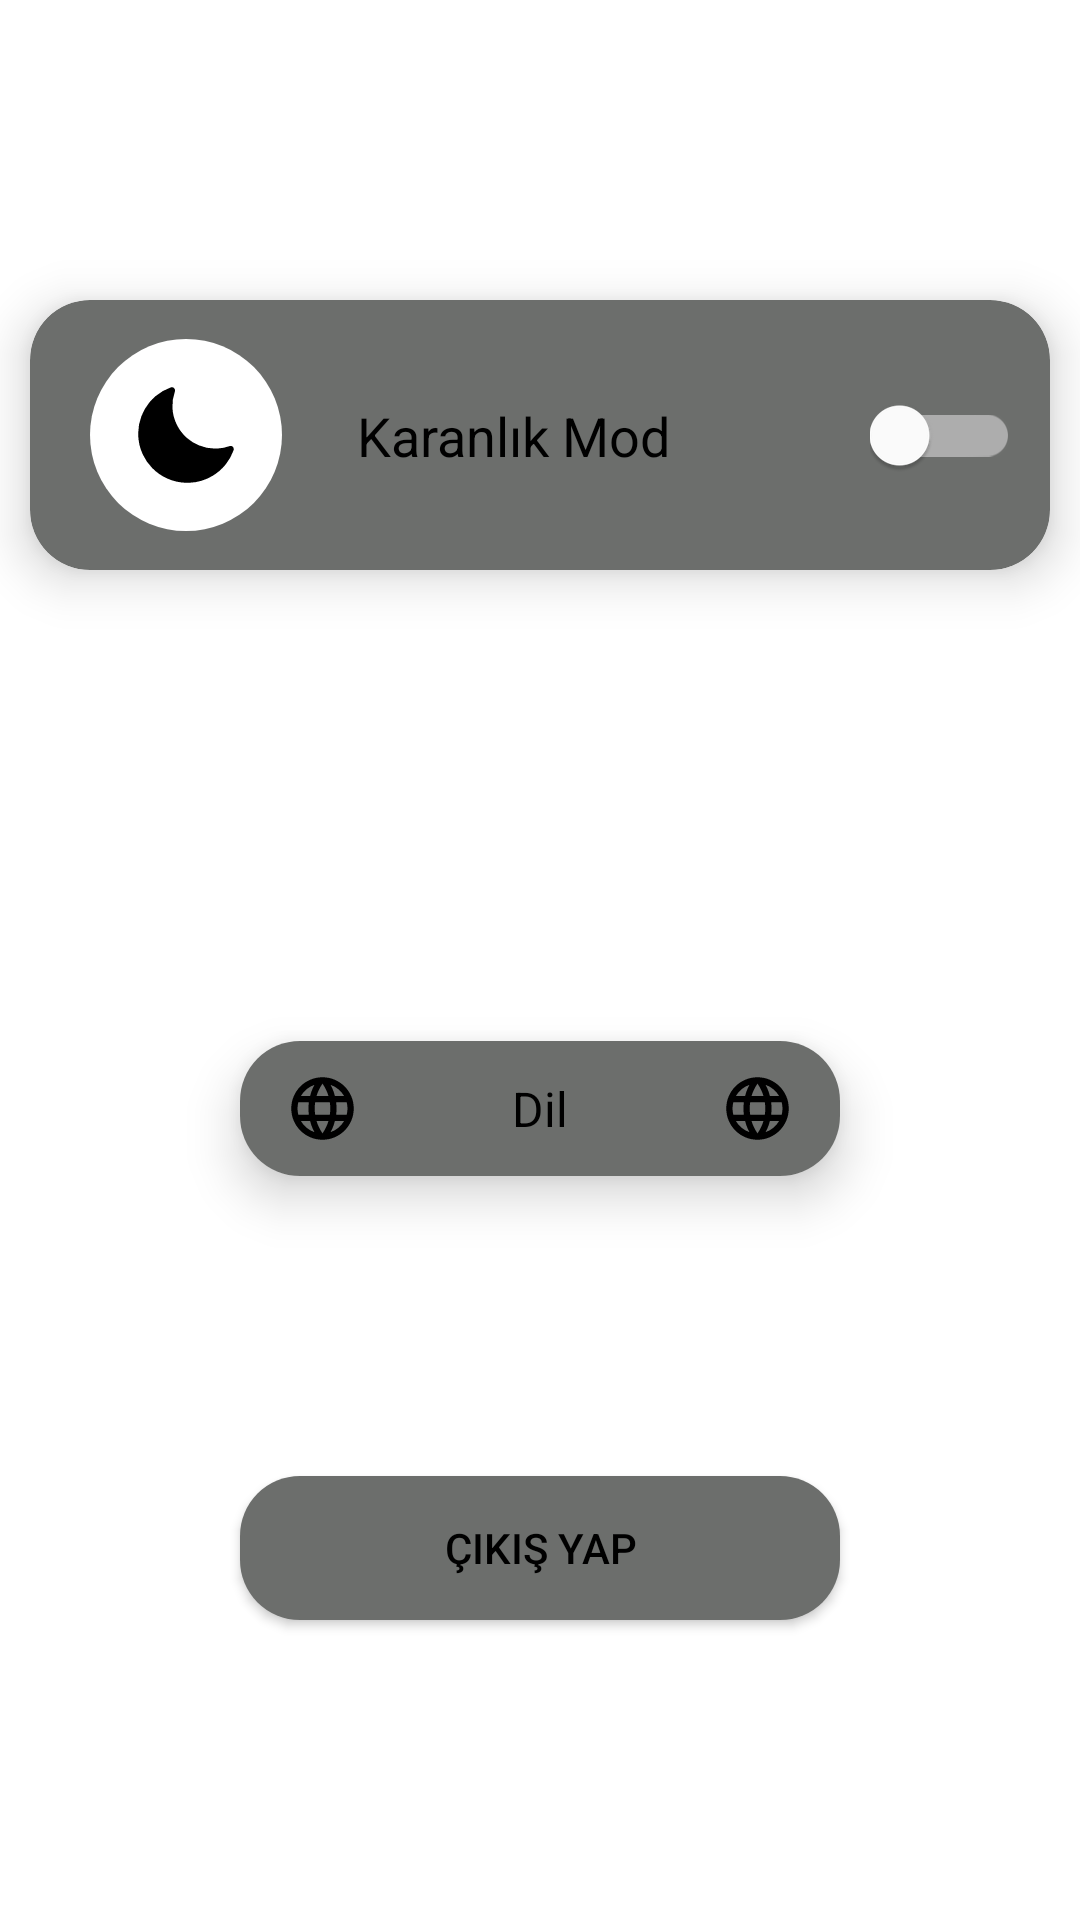

Icons on this 1080w x 1920h Android screen, each with the point to tap as [x,y]:
language: [322,1108], [757,1108]
mode: [186,435]
